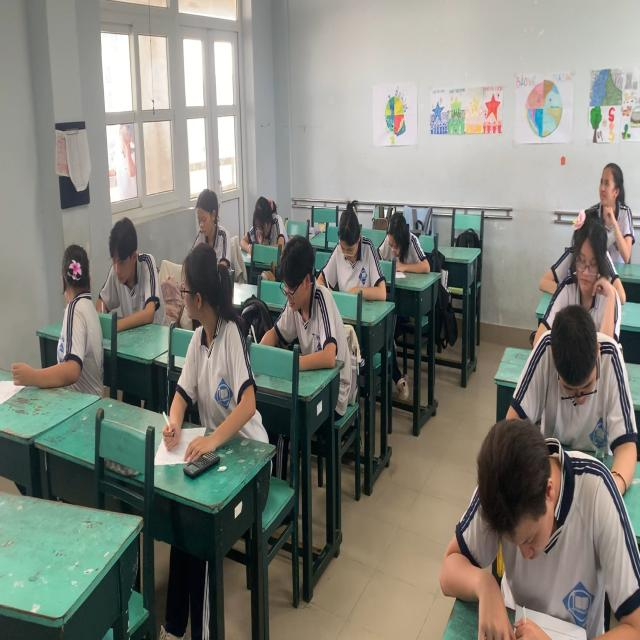cheating: (174, 247, 247, 461), (56, 243, 106, 396)
not_cheating: (464, 409, 628, 630), (523, 299, 617, 423), (271, 240, 323, 344), (103, 212, 150, 319), (566, 212, 609, 302), (183, 185, 238, 247), (333, 202, 370, 292), (378, 194, 409, 274), (593, 157, 627, 215), (250, 194, 280, 247)
